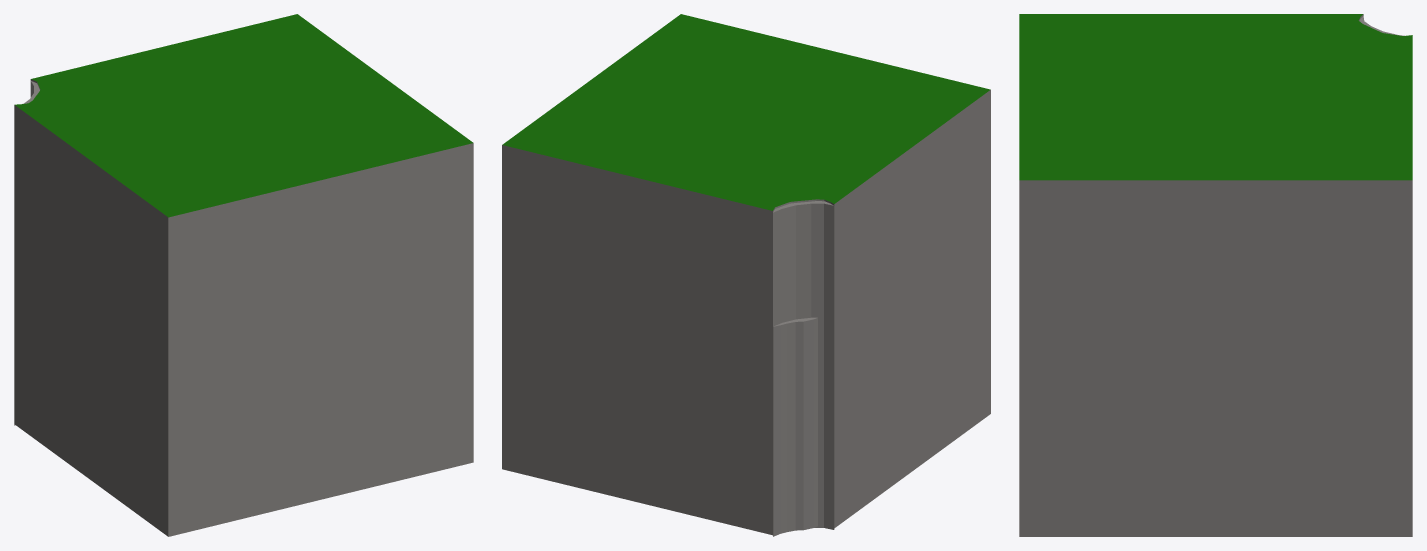
File: Wedge.fbx
The picture shows the model from 3 angles, left to right: view 1: azimuth 30°, elevation 25°; view 2: azimuth 150°, elevation 25°; view 3: azimuth 270°, elevation 25°; orthographic projection. The views are drawn at different scales.
Visible parts, largest first — view 1: Plane.005; view 2: Plane.005; view 3: Plane.005.
Part boxes in pixels (x1,y1,x2,y2): Plane.005: (14,14,473,536); Plane.005: (502,14,990,536); Plane.005: (1019,14,1412,536).
Size of the model in its own units: 100 by 101 by 100.
